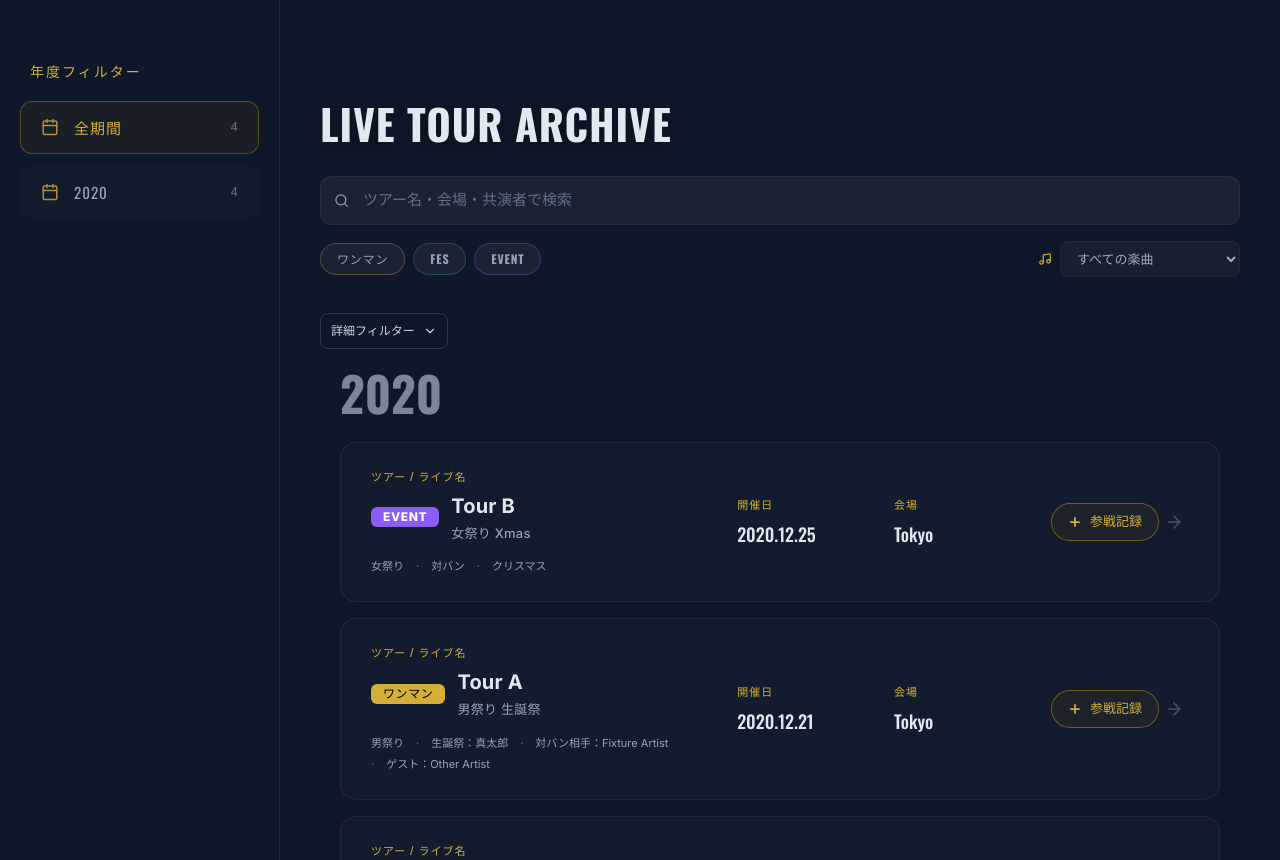
Test: LiveList 属性フィルター › 生誕祭を選ぶと対象メンバーを指定でき、タグを外しても有効なメンバー条件は隠さない
Click the button "詳細フィルター" at (384, 331), box [320, 313, 448, 349]
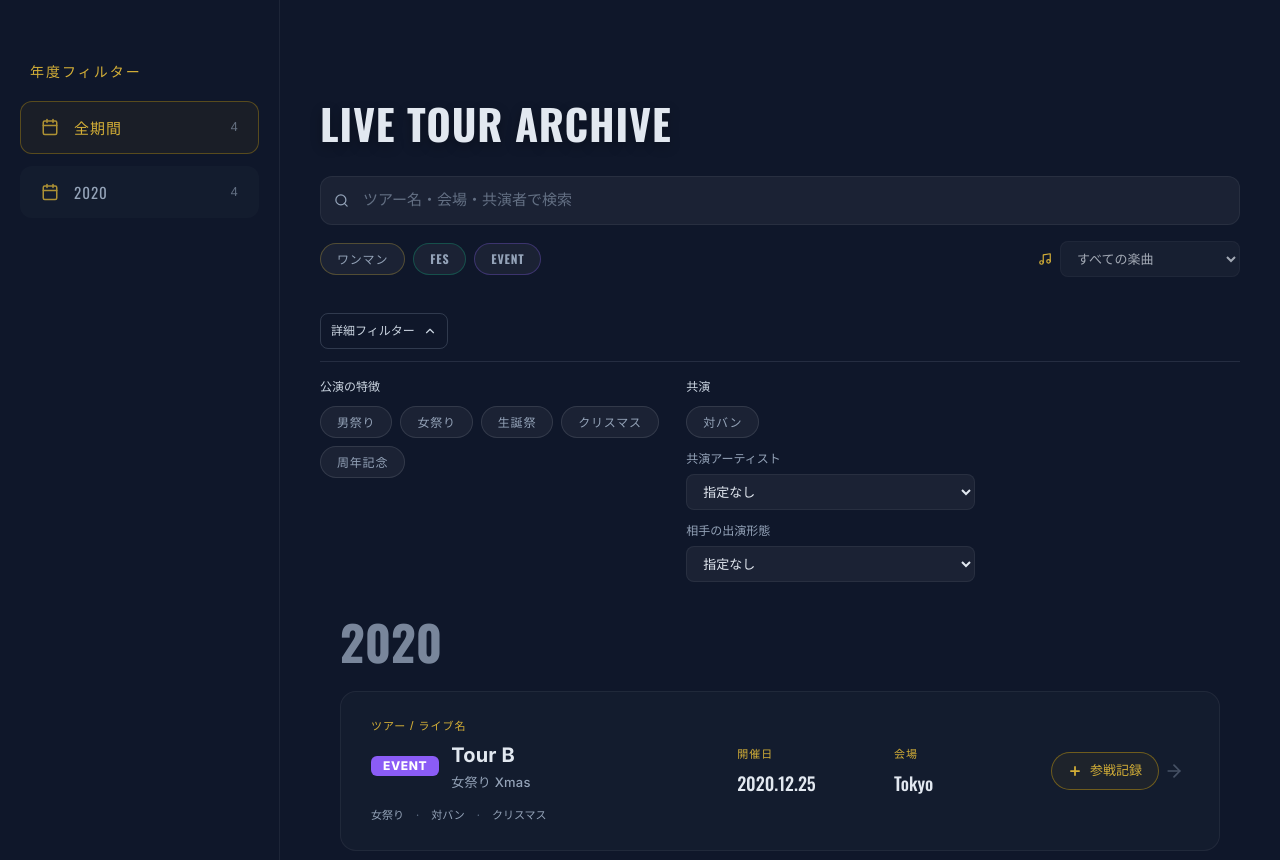
Expected: the field labelled "生誕祭の対象メンバー" is not shown
Click the button "生誕祭" at (517, 422), box [481, 406, 553, 438]
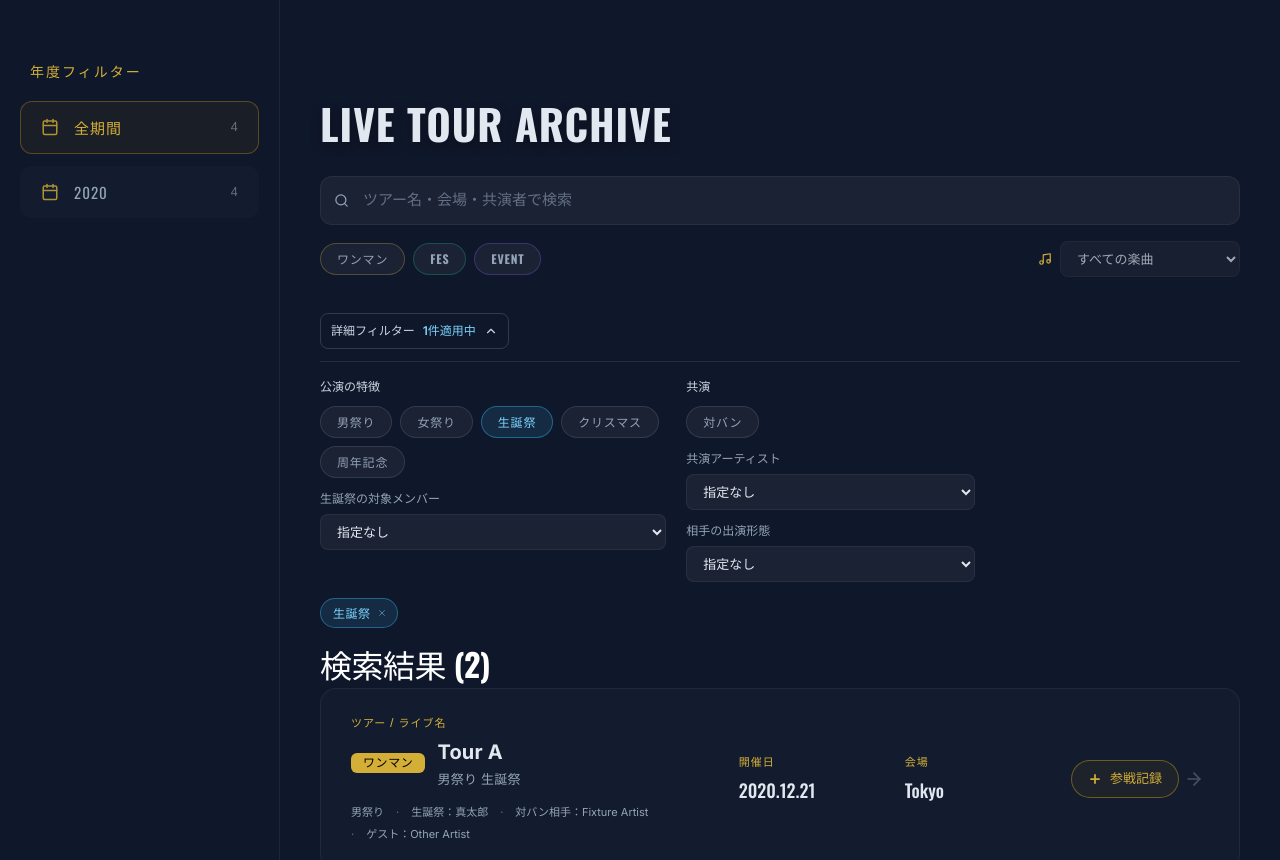
Select "TAKUYA∞" in the dropdown labelled "生誕祭の対象メンバー" at (493, 532), box [320, 514, 666, 550]
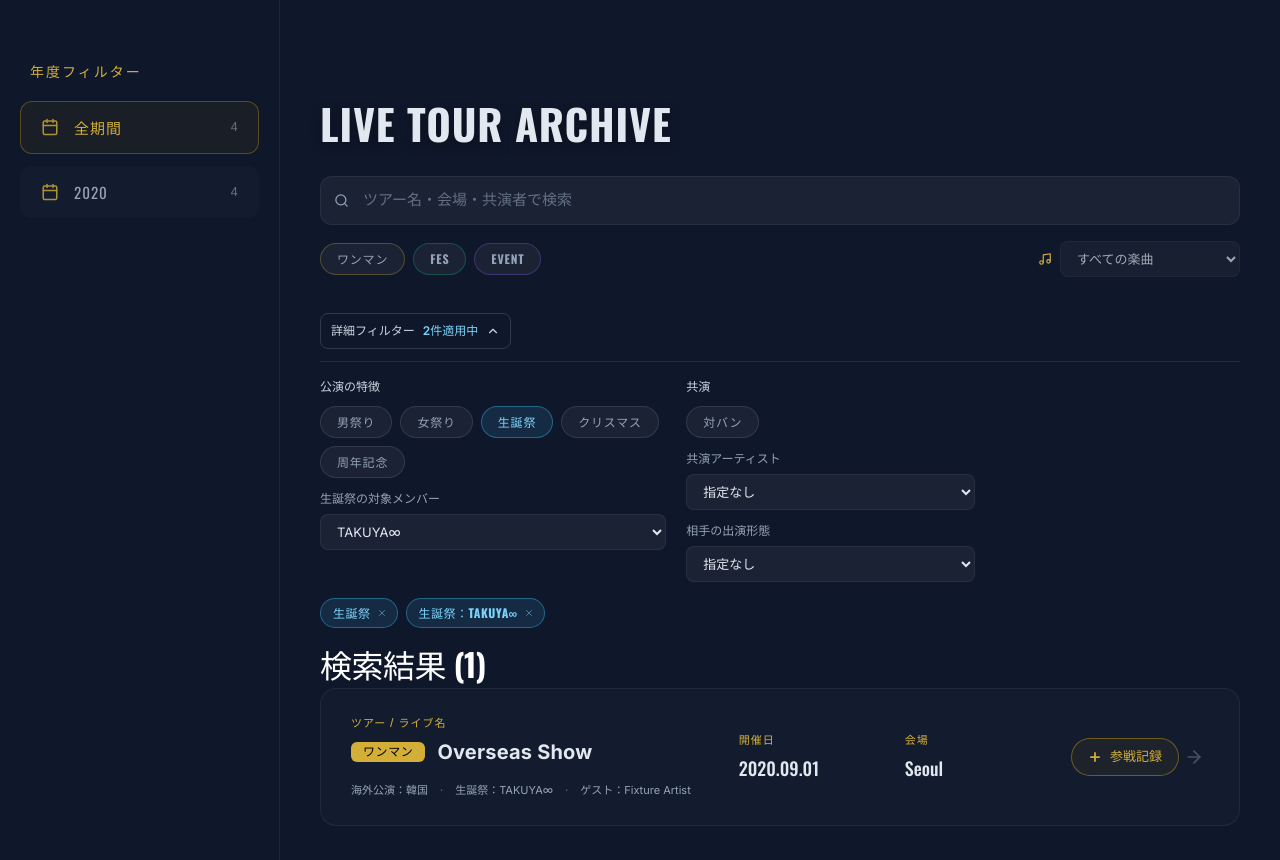
Click the button "生誕祭" at (517, 422), box [481, 406, 553, 438]
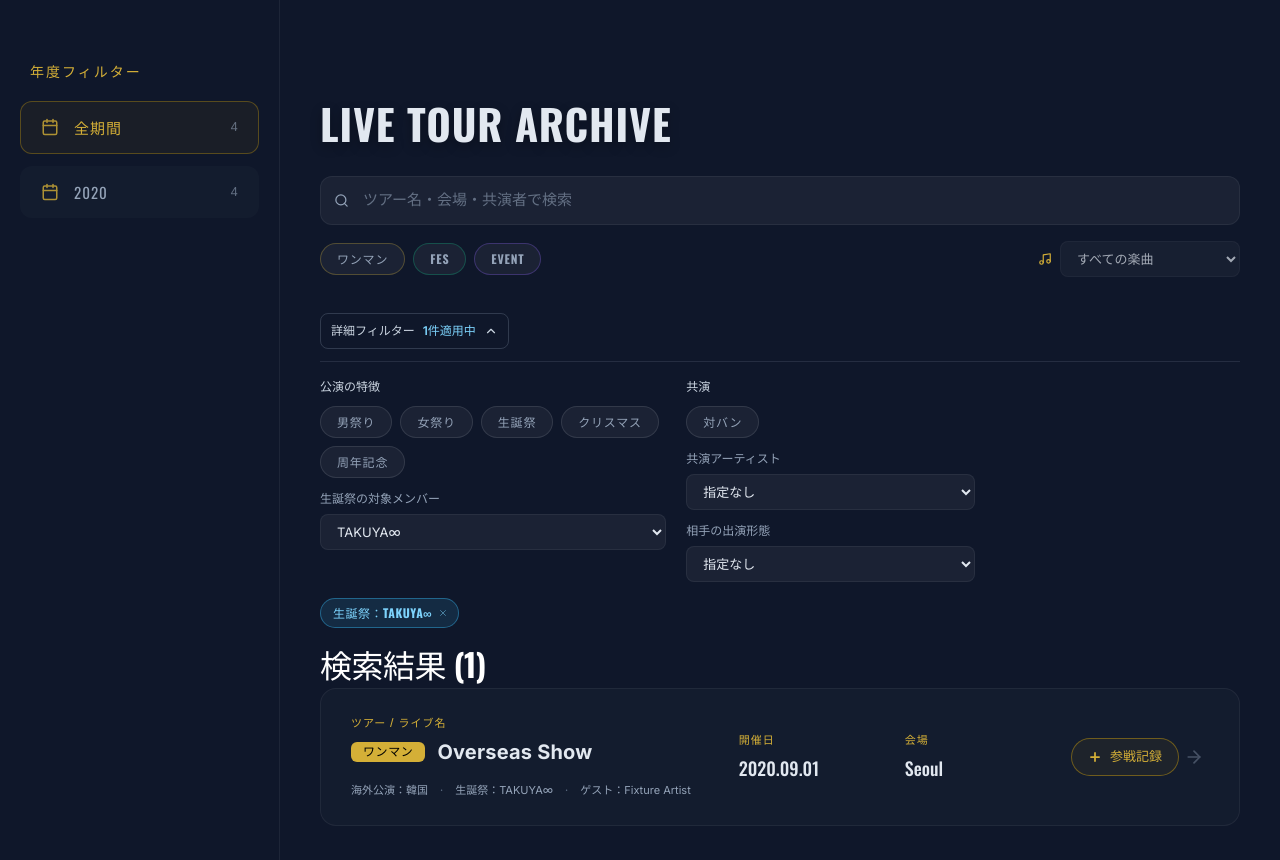
Select "指定なし" in the dropdown labelled "生誕祭の対象メンバー" at (493, 532), box [320, 514, 666, 550]
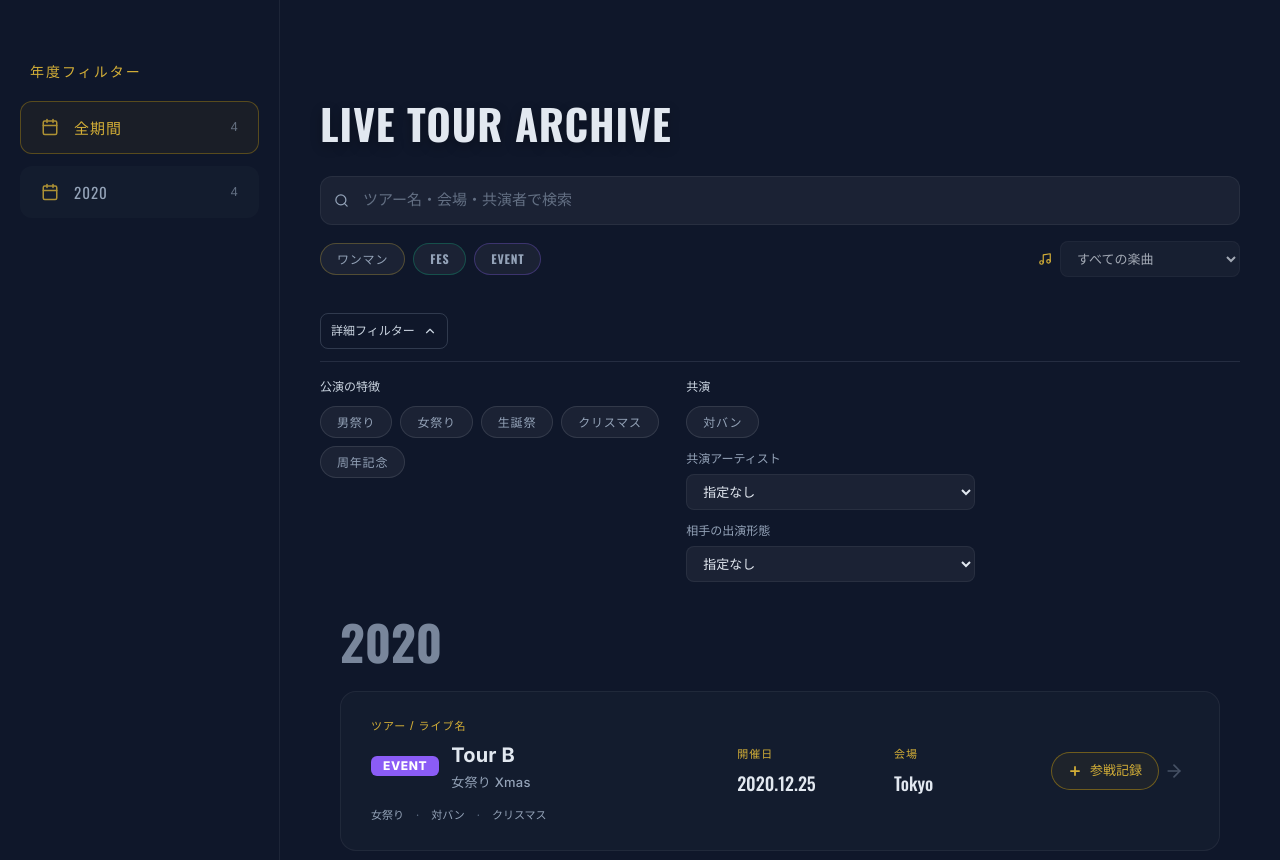
Expected: the label labelled "生誕祭の対象メンバー" is gone
